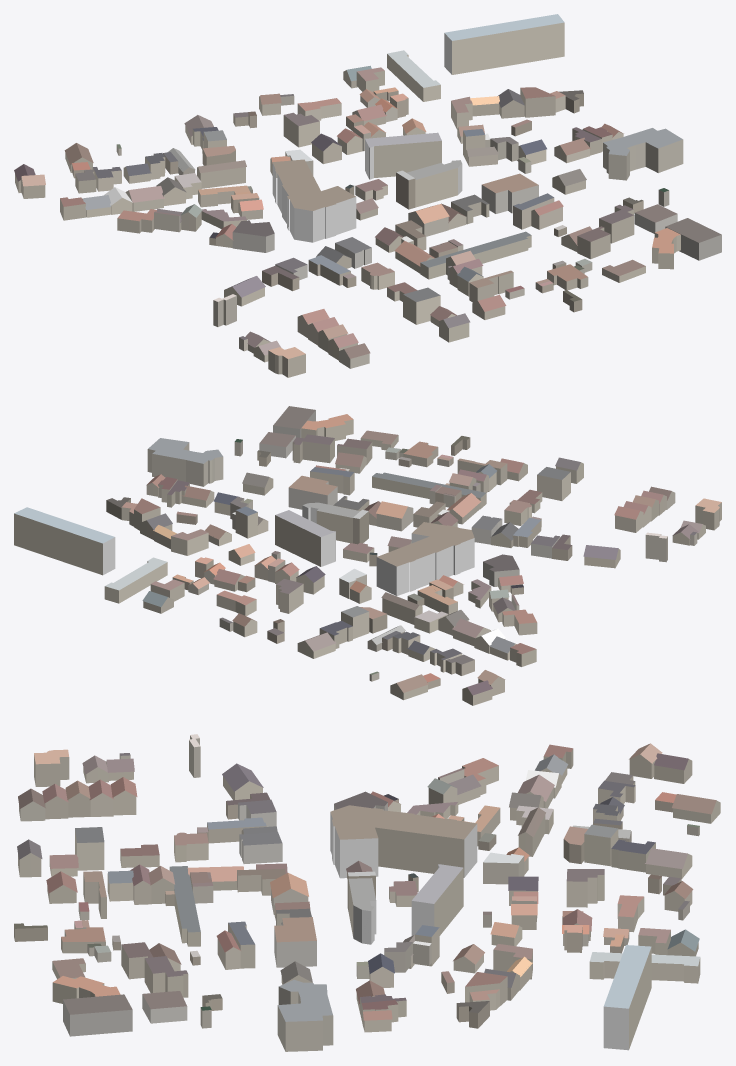
3 views of the same model, one above another, from view 1: azimuth 30°, elevation 25°; view 2: azimuth 150°, elevation 25°; view 3: azimuth 270°, elevation 25° (orthographic). The views are drawn at different scales.
Parts seen in each view (by area): view 1: tuile; view 2: tuile; view 3: tuile.
Part boxes in pixels (x1,y1,x2,y2): tuile: [14, 14, 721, 377]; tuile: [14, 406, 721, 705]; tuile: [14, 734, 720, 1051].
Bounding box in the file's own units: 277 × 30.72 × 263.
